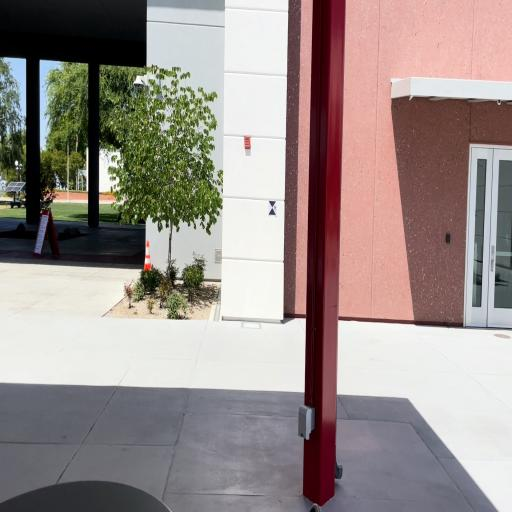target9: (268, 201, 277, 216)
